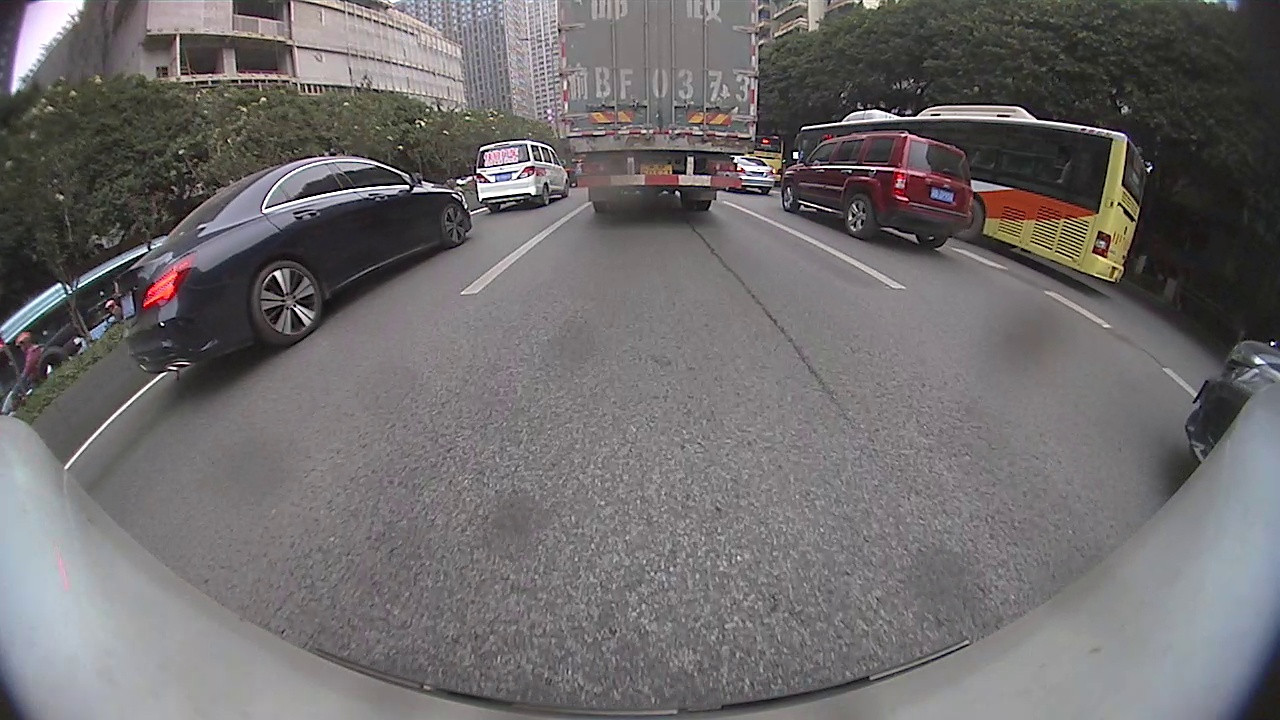bus: (794, 100, 1144, 285)
car: (119, 159, 469, 374), (778, 130, 971, 250), (1182, 338, 1279, 464), (475, 139, 572, 213)
front: (439, 200, 472, 249), (781, 180, 801, 214)
rear: (248, 259, 326, 346), (948, 196, 986, 243), (844, 192, 878, 241)
truck: (554, 2, 763, 217)
